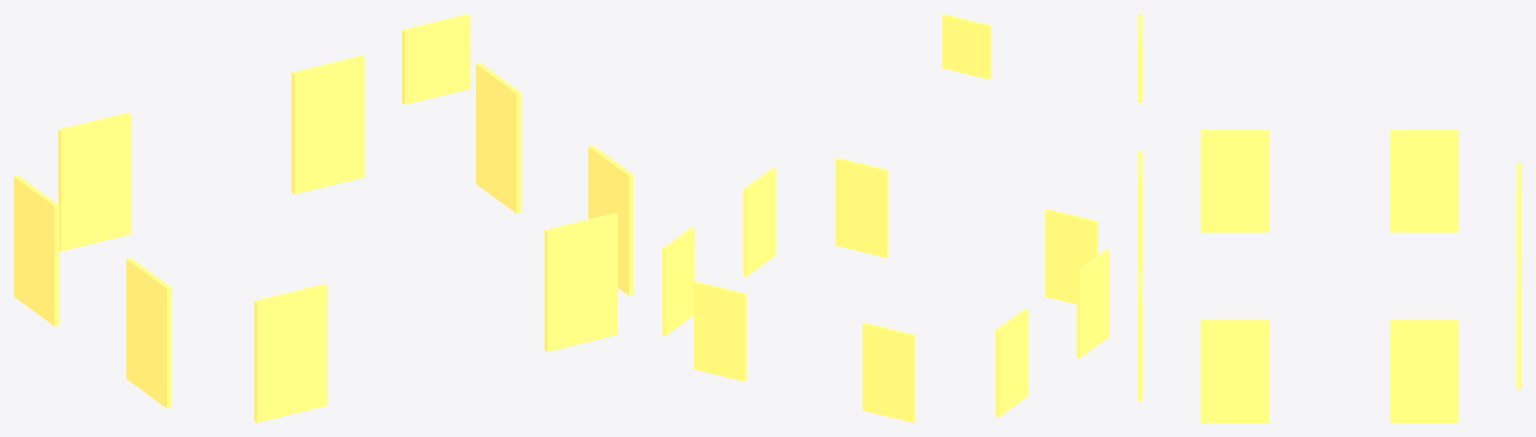
The model's file is CandyHouse_Lavender_Glow.glb.
3 renders of one model, left to right at view 1: azimuth 30°, elevation 25°; view 2: azimuth 150°, elevation 25°; view 3: azimuth 270°, elevation 25°, orthographic. The views are drawn at different scales.
Visible parts, largest first — view 1: CandyHouse_Lavender_Glow; view 2: CandyHouse_Lavender_Glow; view 3: CandyHouse_Lavender_Glow.
Boxes of the visible parts, x1,y1,x2,y2 form: CandyHouse_Lavender_Glow: (14,14,633,422); CandyHouse_Lavender_Glow: (662,14,1109,422); CandyHouse_Lavender_Glow: (1138,14,1521,422).
Size of the model in its own units: 19.2 by 13.95 by 16.2.
